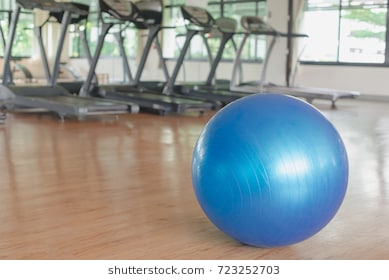blue ball: (191, 92, 350, 248)
